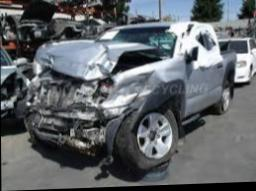Bonnet: (34, 38, 176, 77)
Bumper: (16, 109, 131, 156)
Fender: (111, 55, 188, 127)
